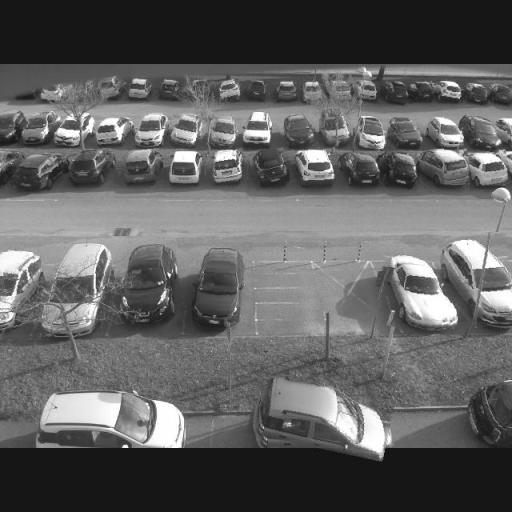busy: (249, 379, 393, 455), (28, 390, 183, 448), (441, 234, 512, 330), (377, 254, 458, 332), (107, 242, 181, 323), (184, 246, 244, 327), (43, 246, 112, 302), (465, 380, 512, 445), (0, 252, 40, 314), (6, 154, 66, 192), (419, 150, 471, 188), (62, 151, 114, 188), (464, 151, 510, 190), (295, 147, 339, 187), (249, 149, 293, 189), (116, 149, 162, 187), (337, 153, 383, 189), (380, 151, 422, 190), (206, 148, 247, 186), (460, 117, 502, 152), (162, 152, 204, 186), (15, 112, 57, 146), (278, 114, 317, 150), (384, 118, 426, 151), (238, 110, 276, 146), (129, 112, 169, 146), (167, 114, 204, 150), (424, 117, 464, 150), (90, 118, 132, 149), (352, 118, 390, 151), (204, 116, 240, 150), (51, 116, 88, 148), (318, 116, 352, 148), (378, 81, 409, 106), (94, 77, 124, 102), (211, 80, 242, 104), (0, 114, 25, 143), (123, 78, 154, 101), (154, 78, 184, 101), (461, 83, 491, 106), (0, 151, 18, 188), (187, 79, 215, 102), (271, 82, 300, 104), (435, 82, 464, 104), (325, 79, 352, 102), (352, 81, 380, 103), (406, 82, 434, 104), (242, 82, 270, 102), (487, 84, 512, 106), (300, 80, 324, 102), (35, 86, 67, 102), (496, 120, 512, 150)
